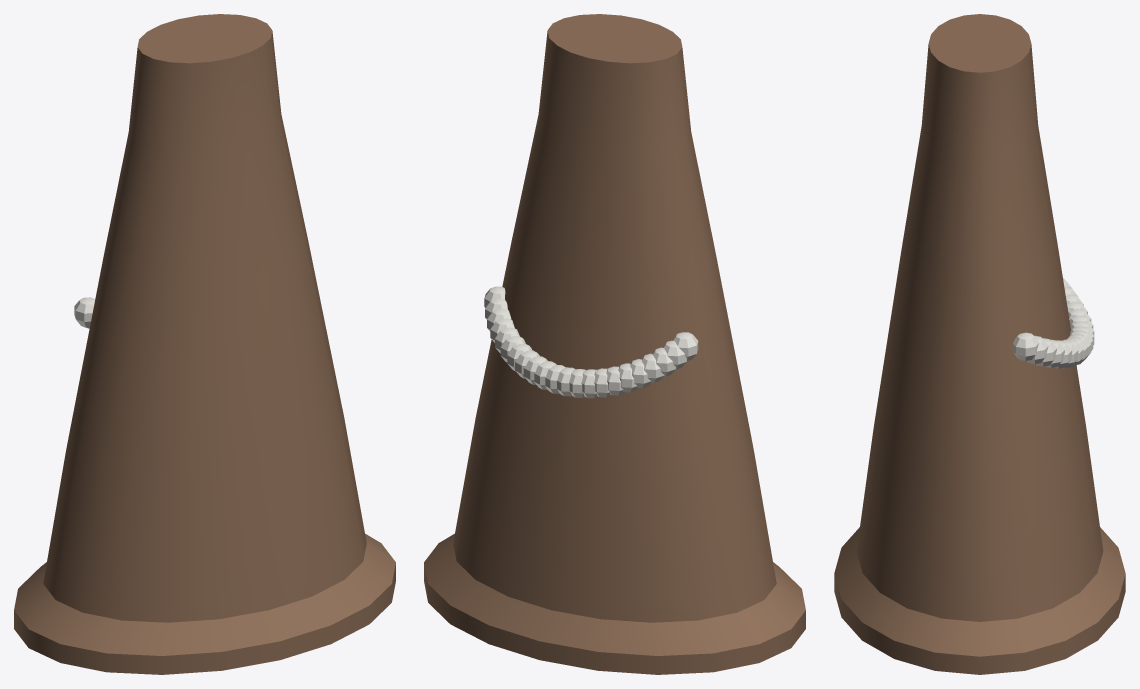
The model's file is prop_bust_display.glb.
The picture shows the model from 3 angles, left to right: view 1: azimuth 30°, elevation 25°; view 2: azimuth 150°, elevation 25°; view 3: azimuth 270°, elevation 25°; orthographic projection. The views are drawn at different scales.
Visible parts, largest first — view 1: Bust; view 2: Bust; view 3: Bust.
Boxes of the visible parts, left/top/right/bottom form: Bust: left=14, top=14, right=395, bottom=674; Bust: left=424, top=14, right=805, bottom=674; Bust: left=834, top=14, right=1125, bottom=674.
Size of the model in its own units: 0.1955 by 0.3 by 0.1445.
